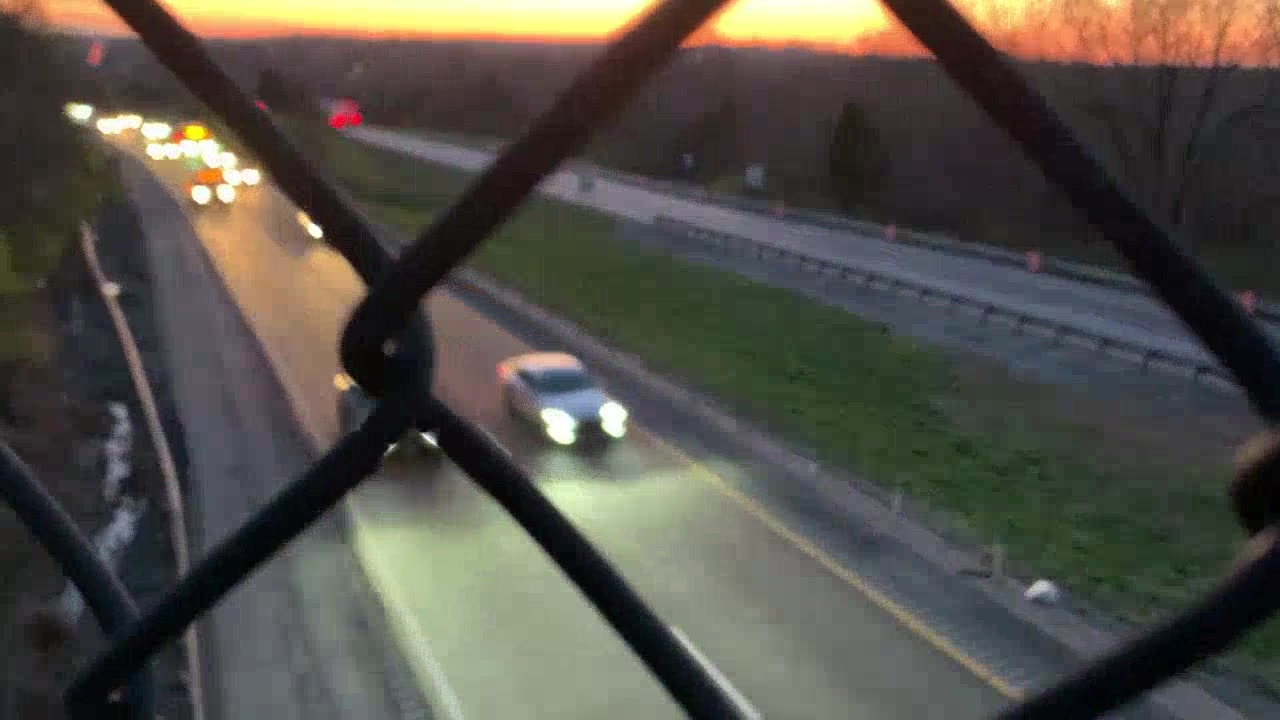smallCar: (496, 348, 641, 447)
